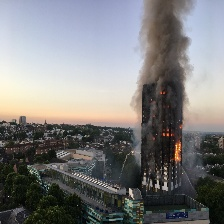fire: (173, 140, 184, 163), (159, 132, 175, 138)
smoke: (127, 1, 193, 105)
